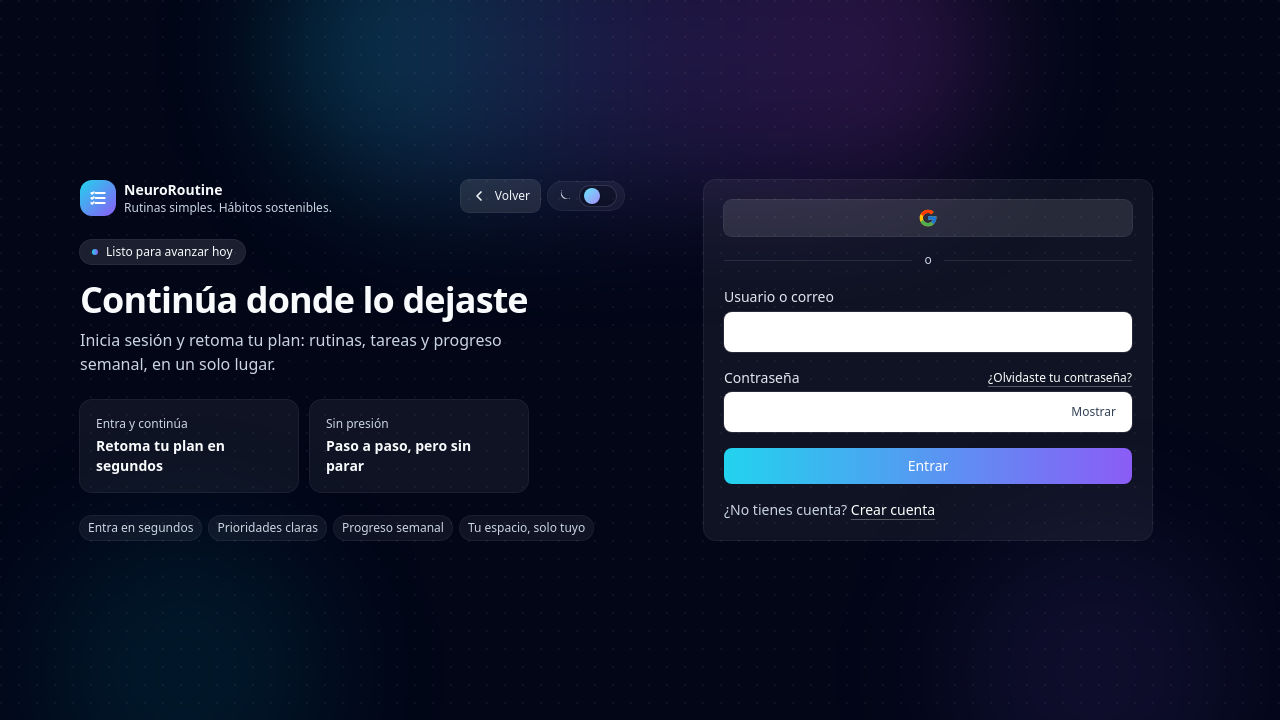
Test: LoginPage › shows the specific error message when sign-in fails with a real Error
In the field with test id "login-identifier": {"x": 928, "y": 332} x1=724 y1=312 x2=1132 y2=352, type "me@example.com"
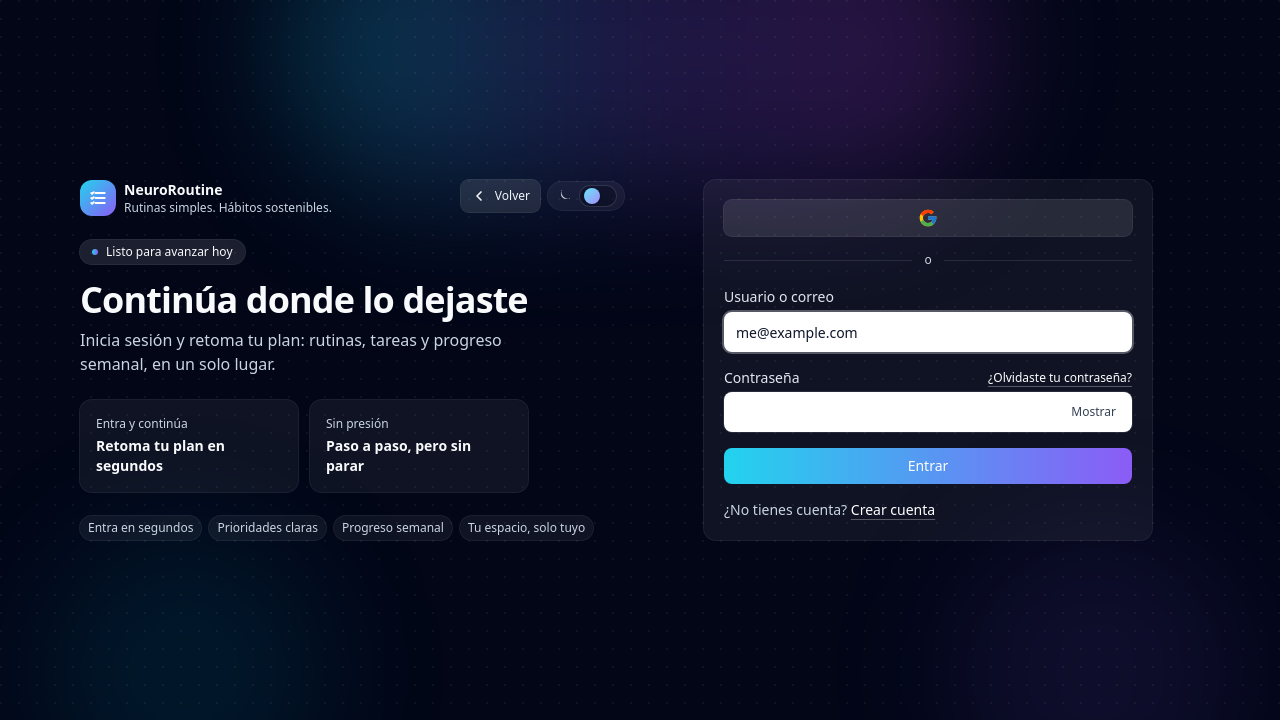
In the password field with test id "login-password": {"x": 928, "y": 412} x1=724 y1=392 x2=1132 y2=432, type "secret123"
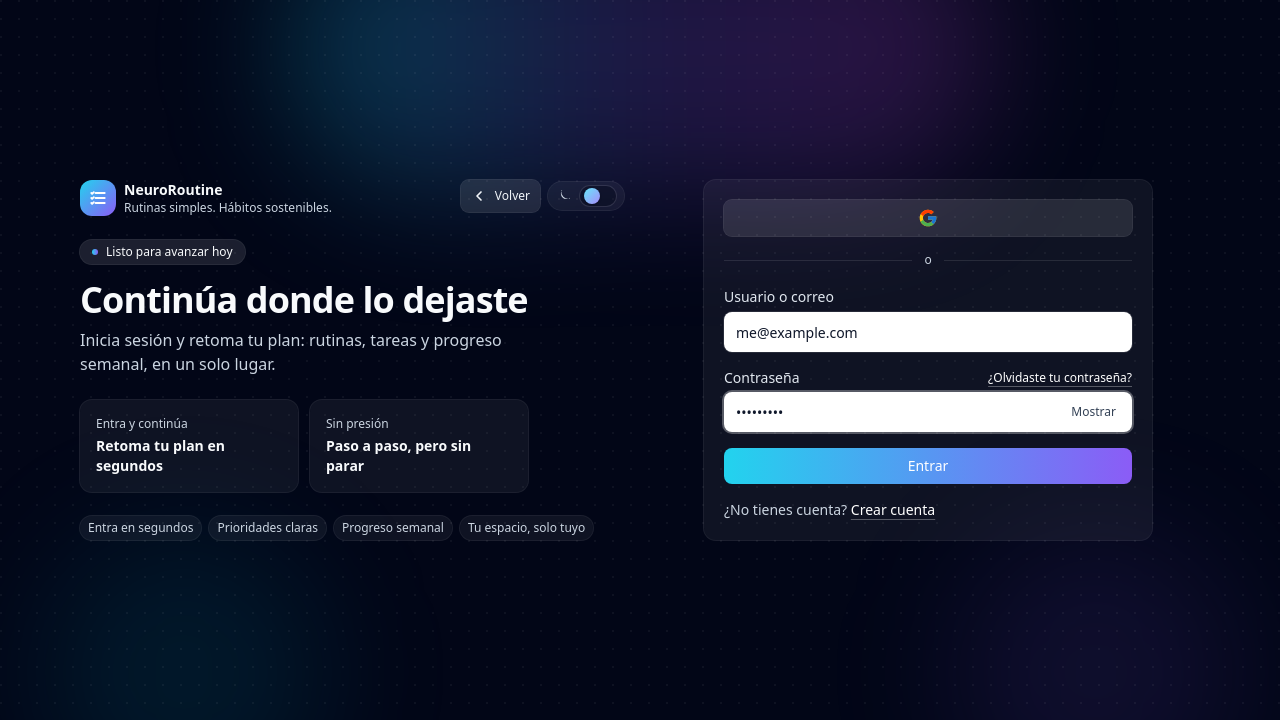
Click the button with test id "login-submit": {"x": 928, "y": 466} x1=724 y1=448 x2=1132 y2=484
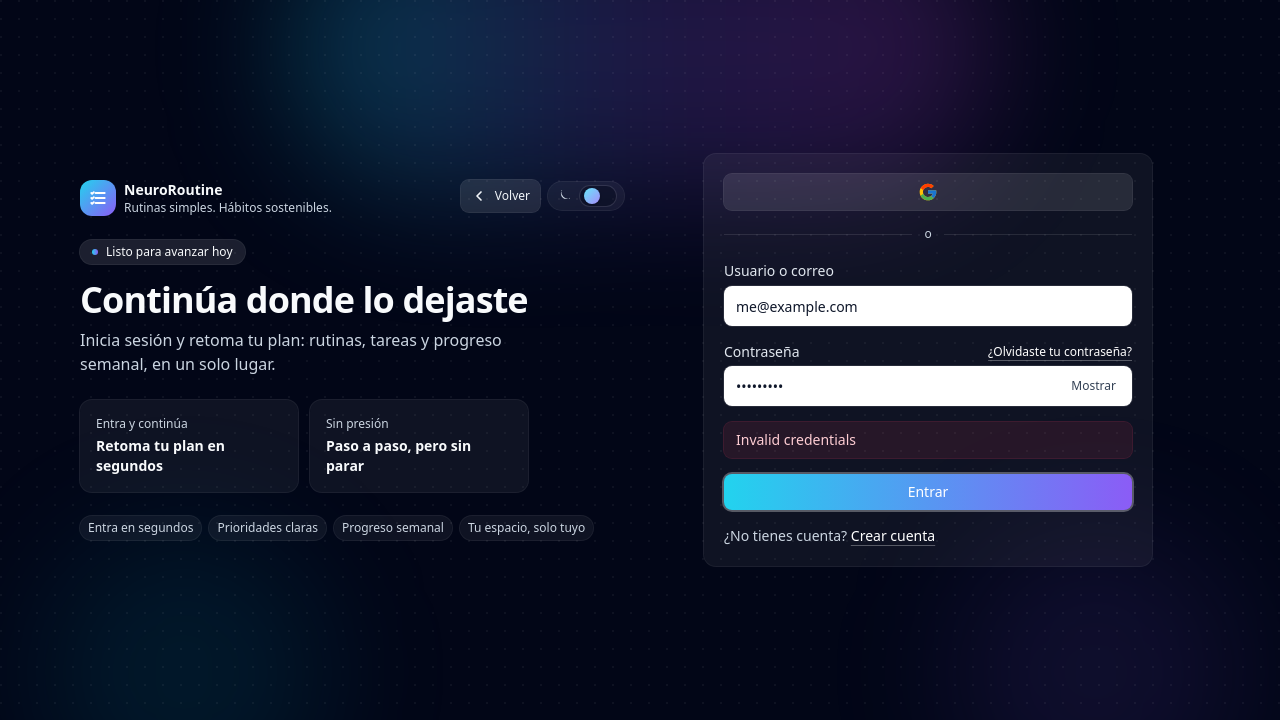
Now the text "Invalid credentials" is shown, box x1=724 y1=422 x2=1132 y2=458
